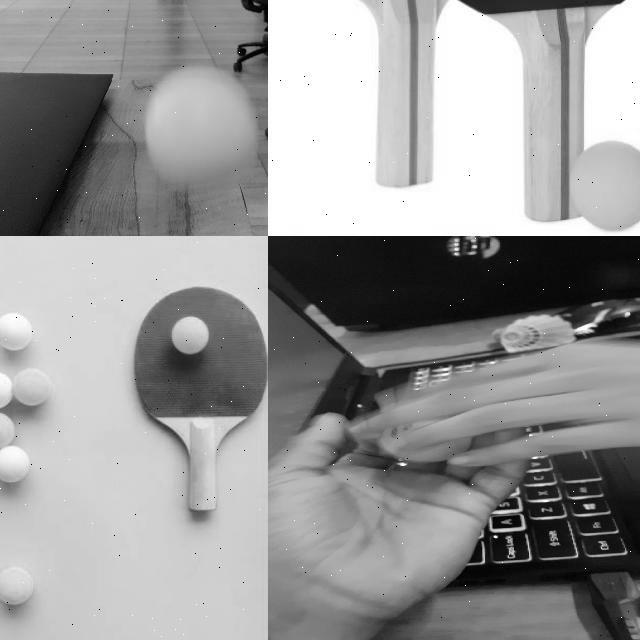ping-pong-ball: (146, 70, 254, 196), (572, 142, 639, 231), (374, 420, 470, 460), (12, 368, 50, 406), (172, 316, 210, 354), (0, 312, 34, 351), (0, 567, 34, 606), (0, 447, 31, 486), (0, 411, 15, 450), (0, 369, 13, 408)
